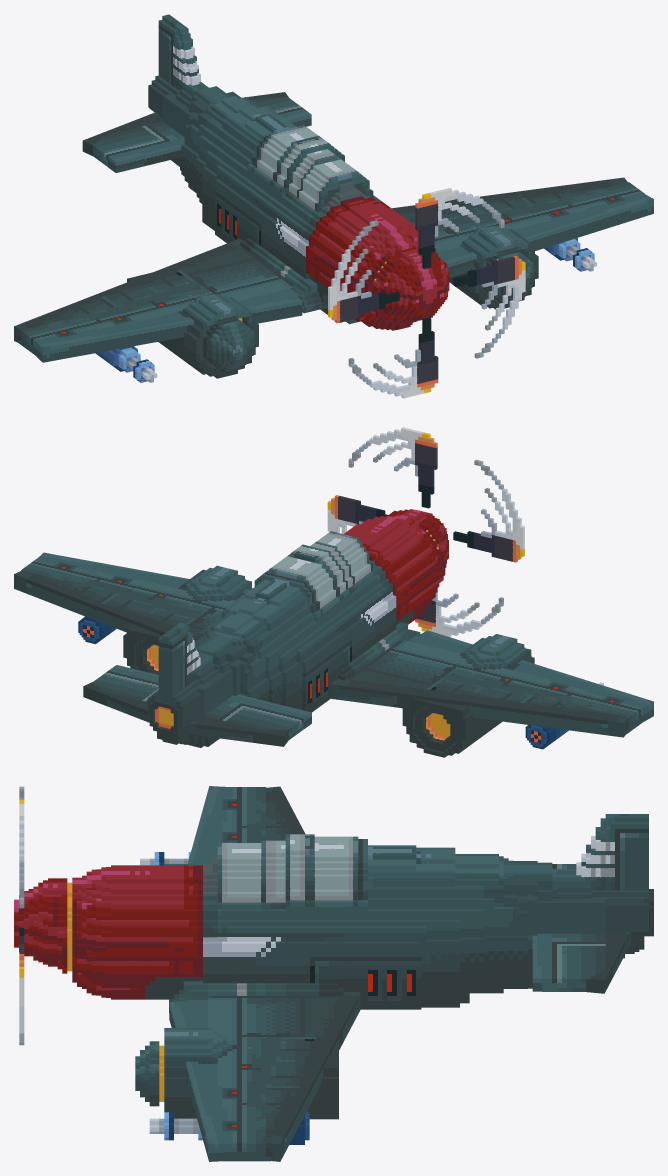
Rendered from 小飞机.gltf.
3 renders of one model, top to bottom at view 1: azimuth 30°, elevation 25°; view 2: azimuth 150°, elevation 25°; view 3: azimuth 270°, elevation 25°, orthographic. The views are drawn at different scales.
Parts seen in each view (by area): view 1: Object-10, Bone, Object-11 (×2), Object-13, Object-12 (×2), Object-6, Object; view 2: Object-10, Object-12 (×4), Bone, Object-11 (×2), Object-13, Object-6, Object; view 3: Object-10, Object-12 (×3), Object-11 (×2), Object-13, Bone, Object.
Boxes of the visible parts, bbox=[...] form: Object-10: bbox=[18, 14, 644, 378]; Bone: bbox=[328, 188, 525, 398]; Object-11 (×2): bbox=[108, 108, 653, 277]; Object-13: bbox=[36, 295, 302, 362]; Object-12 (×2): bbox=[14, 177, 627, 342]; Object-6: bbox=[95, 346, 157, 382]; Object: bbox=[544, 238, 596, 271]; Object-10: bbox=[21, 509, 644, 757]; Object-12 (×4): bbox=[14, 570, 628, 746]; Bone: bbox=[327, 427, 524, 637]; Object-11 (×2): bbox=[37, 552, 311, 728]; Object-13: bbox=[421, 630, 653, 721]; Object-6: bbox=[525, 682, 603, 749]; Object: bbox=[78, 616, 116, 644]; Object-10: bbox=[14, 787, 653, 1161]; Object-12 (×3): bbox=[261, 786, 630, 1161]; Object-11 (×2): bbox=[169, 933, 551, 1161]; Object-13: bbox=[187, 786, 228, 863]; Bone: bbox=[19, 786, 24, 1045]; Object: bbox=[149, 1112, 309, 1144].
Bounding box in the file's own units: 175 × 54 × 132.
1 material, 1 textured.
